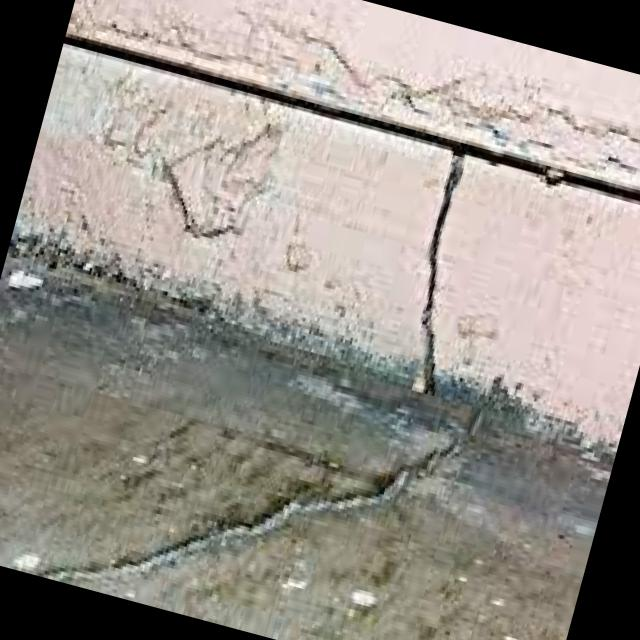crack: (37, 311, 484, 640), (392, 148, 498, 392)
